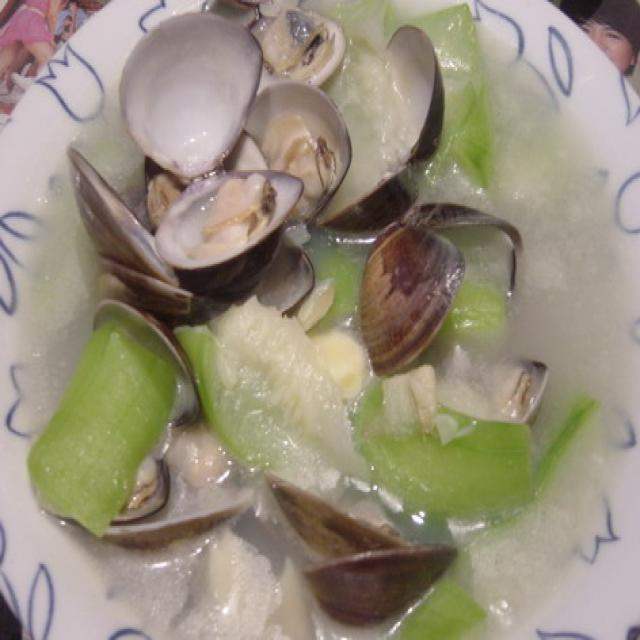Wet: (46, 21, 588, 640)
